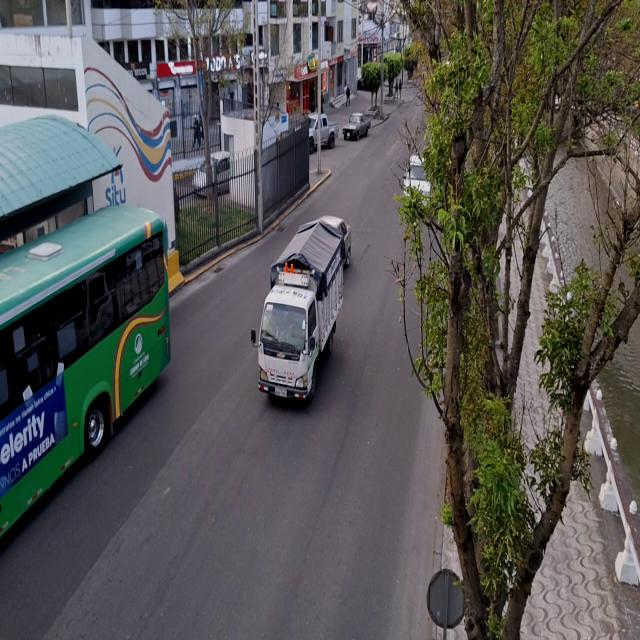BUS: (0, 208, 160, 542)
CMT: (308, 115, 338, 146), (343, 113, 371, 140)
TRUCK: (258, 222, 348, 408)
